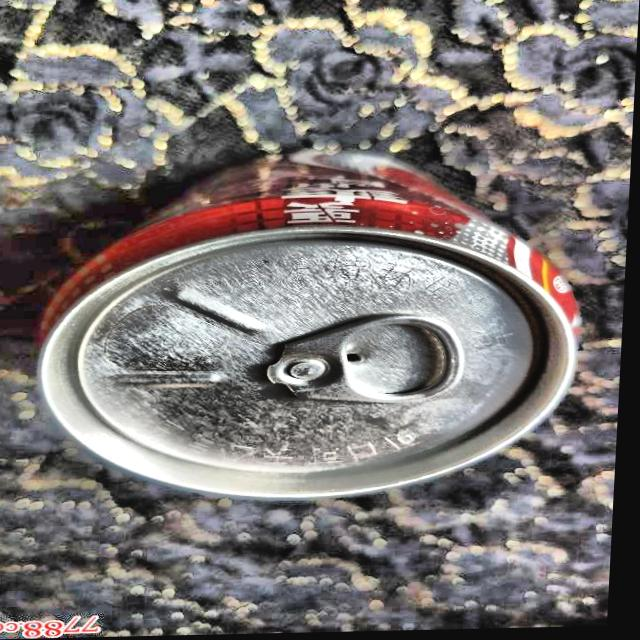can: (23, 137, 601, 520)
